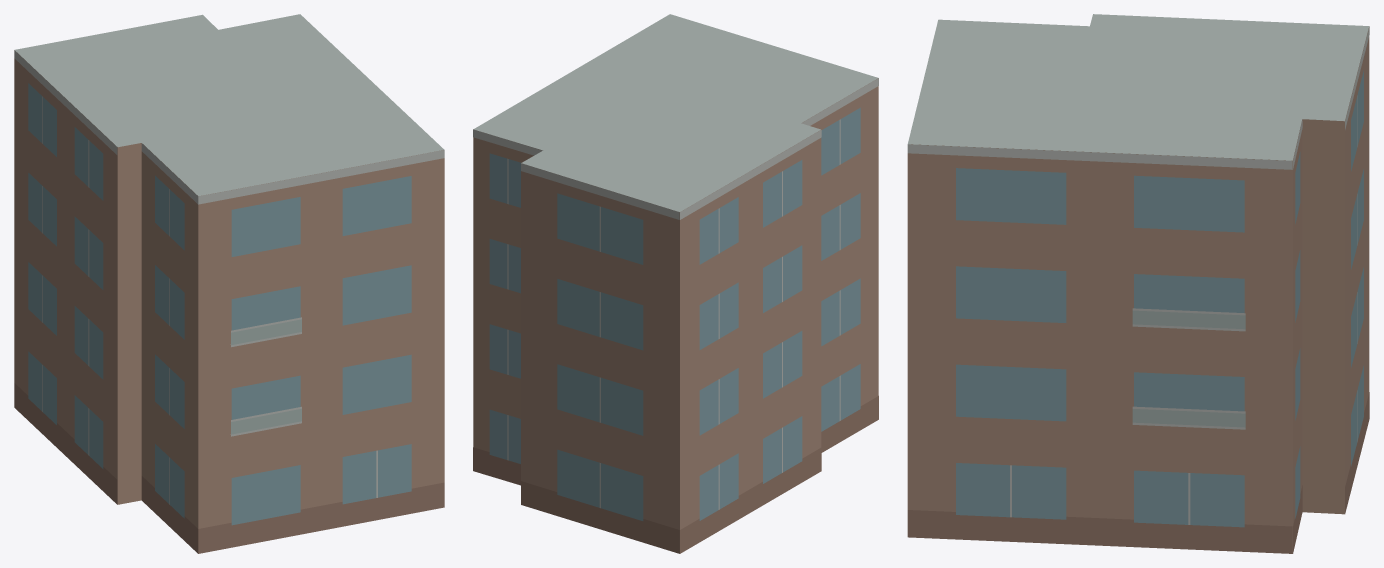
Rendered from survey-upis-32672214.glb.
The picture shows the model from 3 angles, left to right: view 1: azimuth 30°, elevation 25°; view 2: azimuth 150°, elevation 25°; view 3: azimuth 270°, elevation 25°; orthographic projection. The views are drawn at different scales.
Visible parts, largest first — view 1: survey-upis-32672214.tmp; view 2: survey-upis-32672214.tmp; view 3: survey-upis-32672214.tmp.
Boxes of the visible parts, x1,y1,x2,y2 form: survey-upis-32672214.tmp: [14, 14, 444, 553]; survey-upis-32672214.tmp: [473, 14, 878, 553]; survey-upis-32672214.tmp: [907, 14, 1369, 553].
Bounding box in the file's own units: 8.41 × 10.5 × 11.19.
